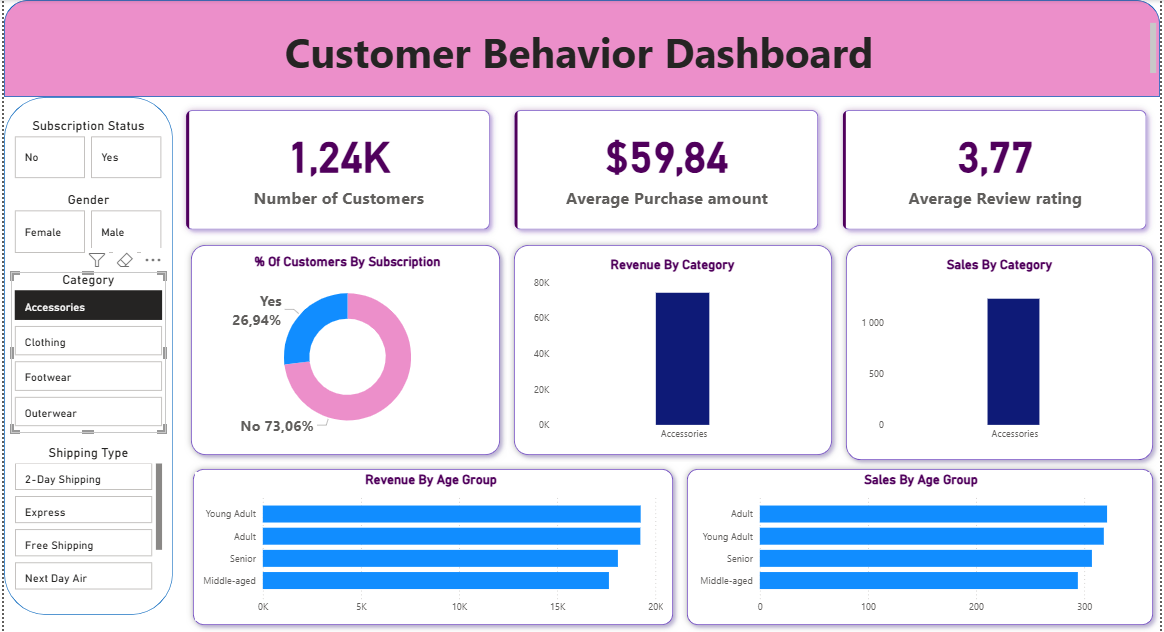

The page's visual inventory and layout, read from the dashboard file:
{"tool":"powerbi","page":{"name":"Page 1","canvas":[1500,820],"ordinal":0},"visuals":[{"type":"cardVisual","fields":{"Data":["Query1.Number of Customers","Query1.Average Purchase amount","Query1.Average Review rating"]},"box":[219.3,125.9,1280.6,189.4],"z":0},{"type":"shape","box":[0,0,1499.9,125.9],"z":1000},{"type":"textbox","box":[0,24.7,1499.9,77.8],"z":2000},{"type":"shape","box":[233.5,308.8,419.1,290.6],"z":3000},{"type":"donutChart","title":"% Of Customers By Subscription","fields":{"Category":["Query1.subscription_status"],"Y":["CountNonNull(Query1.customer_id)"]},"box":[259.5,329.6,372.4,247.8],"z":4000},{"type":"shape","box":[652.6,308.8,430.8,290.6],"z":5000},{"type":"shape","box":[1083.4,308.8,416.5,297.1],"z":6000},{"type":"clusteredColumnChart","title":"Revenue By Category","fields":{"Y":["Sum(Query1.purchase_amount)"],"Category":["Query1.category"]},"box":[682.5,333.4,369.8,247.8],"z":7000},{"type":"clusteredColumnChart","title":"Sales By Category","fields":{"Y":["CountNonNull(Query1.customer_id)"],"Category":["Query1.category"]},"box":[1106.7,333.4,369.8,247.8],"z":8000},{"type":"shape","box":[0,125.9,219.3,672.1],"z":9000},{"type":"advancedSlicerVisual","title":"Subscription Status","fields":{"Values":["Query1.subscription_status"]},"box":[9.1,153.1,201.1,83],"z":10000},{"type":"advancedSlicerVisual","fields":{"Values":["Query1.gender"]},"box":[9.1,249.1,201.1,84.3],"z":10001},{"type":"advancedSlicerVisual","fields":{"Values":["Query1.category"]},"box":[9.1,352.9,201.1,208.9],"z":10002},{"type":"advancedSlicerVisual","fields":{"Values":["Query1.shipping_type"]},"box":[9.1,577.4,201.1,193.3],"z":10003},{"type":"shape","box":[236.1,599.4,640.9,220.6],"z":10004},{"type":"clusteredBarChart","title":"Revenue By Age Group","fields":{"Y":["Sum(Query1.purchase_amount)"],"Category":["Query1.age_group"]},"box":[247.8,612.4,612.4,193.3],"z":10005},{"type":"shape","box":[877.1,599.4,622.8,220.6],"z":10006},{"type":"clusteredBarChart","title":"Sales By Age Group","fields":{"Y":["CountNonNull(Query1.customer_id)"],"Category":["Query1.age_group"]},"box":[892.7,612.4,594.2,193.3],"z":10007}]}

Visuals, with their boxes in screenshot pixels (x1, y1, x2, y2), scaled from the page's 1500x820 canvas onto the 1164x632 screenshot:
cardVisual - Query1.Number of Customers x Query1.Average Purchase amount: 170/97/1163/243
shape: 0/0/1163/97
textbox: 0/19/1163/79
shape: 181/238/506/462
"% Of Customers By Subscription" donutChart: 201/254/490/445
shape: 506/238/841/462
shape: 841/238/1163/467
"Revenue By Category" clusteredColumnChart: 530/257/817/448
"Sales By Category" clusteredColumnChart: 859/257/1146/448
shape: 0/97/170/615
"Subscription Status" advancedSlicerVisual: 7/118/163/182
advancedSlicerVisual - Query1.gender: 7/192/163/257
advancedSlicerVisual - Query1.category: 7/272/163/433
advancedSlicerVisual - Query1.shipping_type: 7/445/163/594
shape: 183/462/681/631
"Revenue By Age Group" clusteredBarChart: 192/472/668/621
shape: 681/462/1163/631
"Sales By Age Group" clusteredBarChart: 693/472/1154/621
